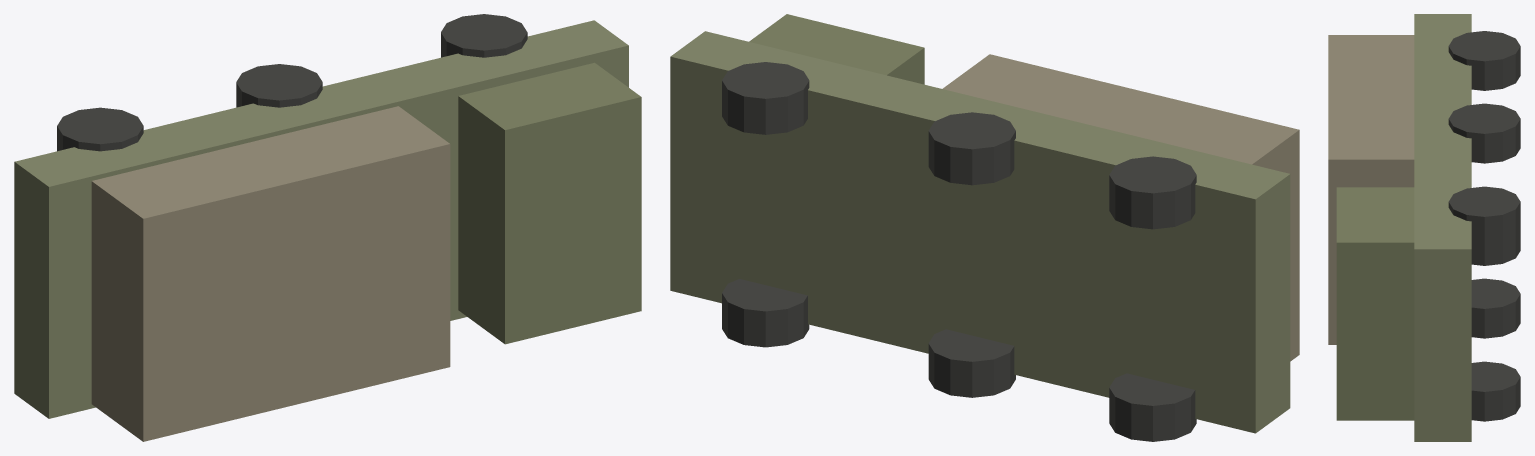
The model's file is ammo_veh.glb.
The picture shows the model from 3 angles, left to right: view 1: azimuth 30°, elevation 25°; view 2: azimuth 150°, elevation 25°; view 3: azimuth 270°, elevation 25°; orthographic projection. The views are drawn at different scales.
Visible parts, largest first — view 1: geometry_0; view 2: geometry_0; view 3: geometry_0.
Boxes of the visible parts, <box> form: geometry_0: <box>14,14,641,441</box>; geometry_0: <box>670,14,1299,441</box>; geometry_0: <box>1328,14,1520,441</box>.
Size of the model in its own units: 6.8 by 2.76 by 2.35.
